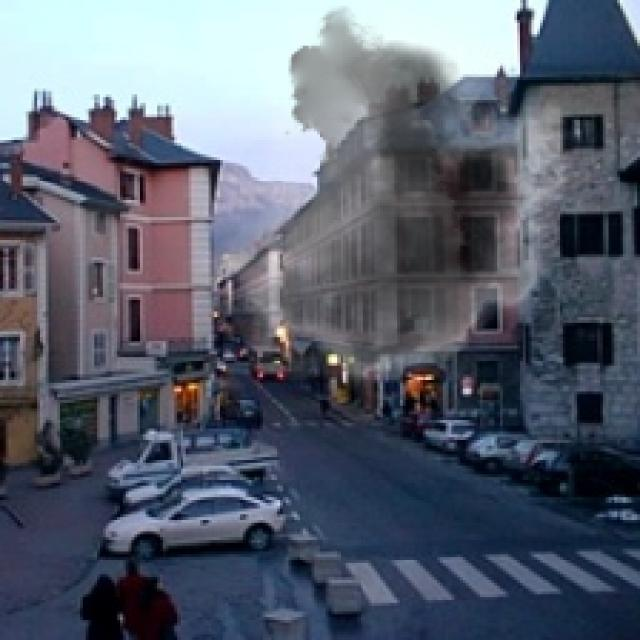smoke: (180, 6, 589, 406)
